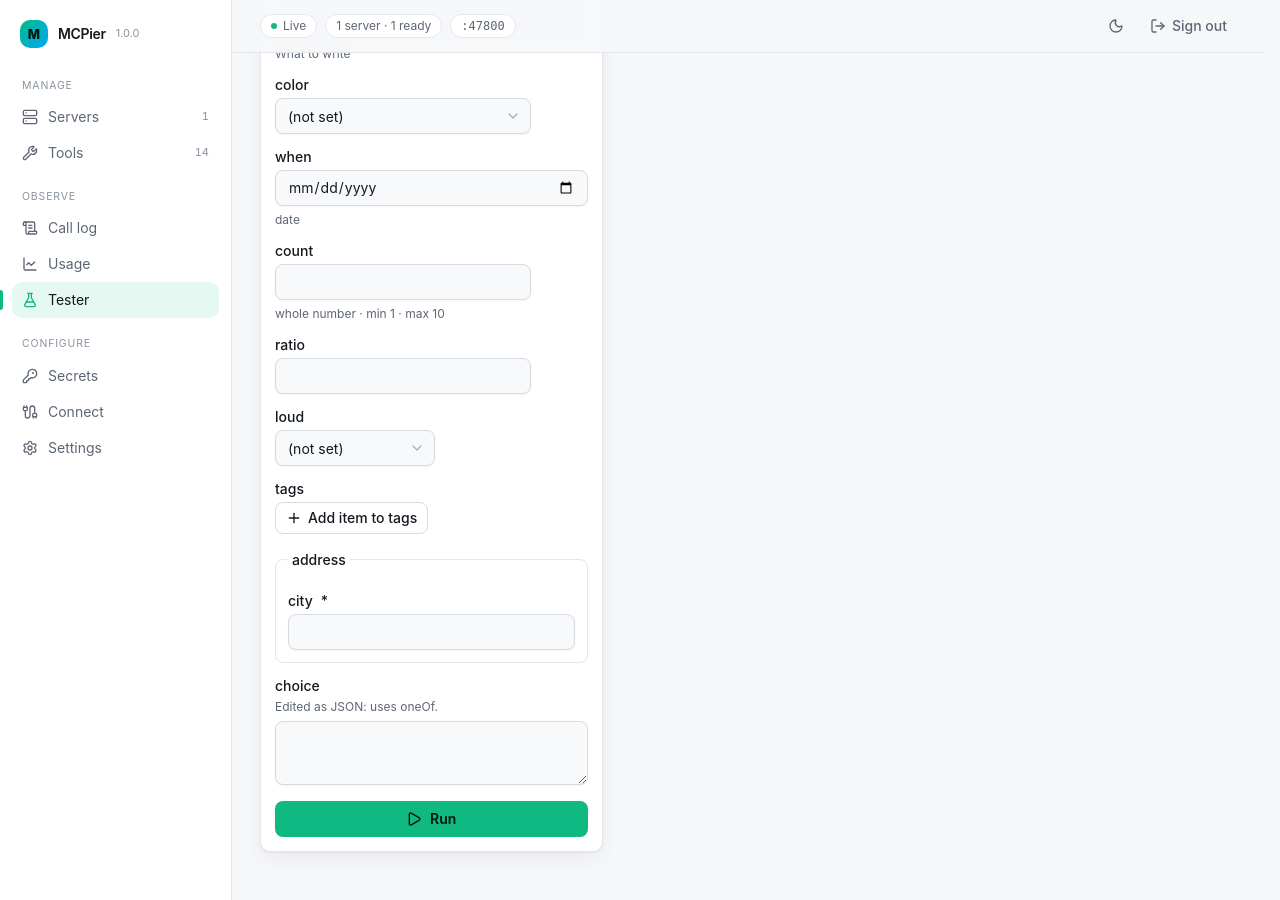
Scenario: Tester: running › an error outcome and an image block are shown
The image size is (1280, 900).
(page scrolled)
Click the button "Run": (431, 818) x1=275 y1=800 x2=588 y2=836
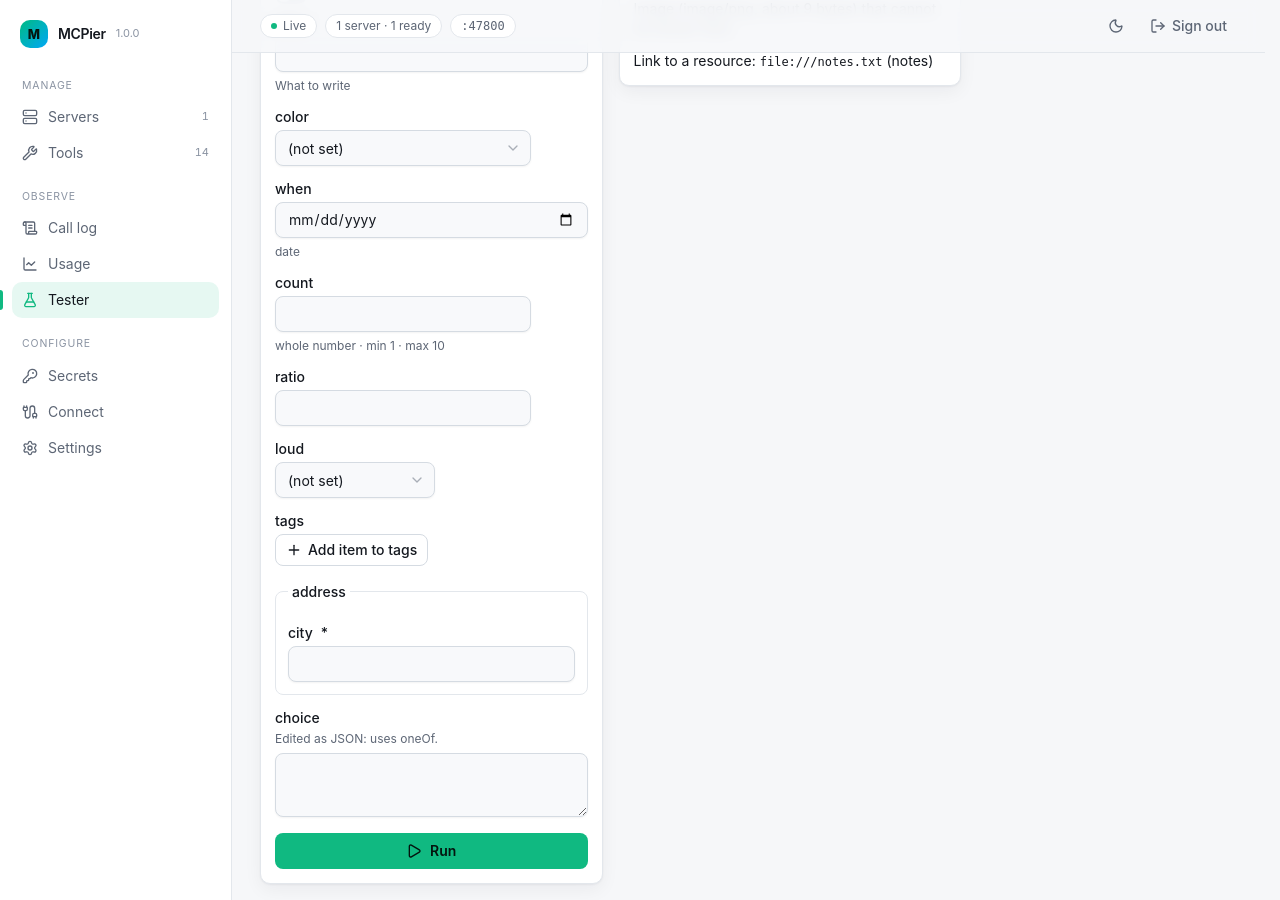
Check: the text "Link to a resource: file:///notes.txt (notes)" is shown, box x1=634 y1=51 x2=946 y2=71
